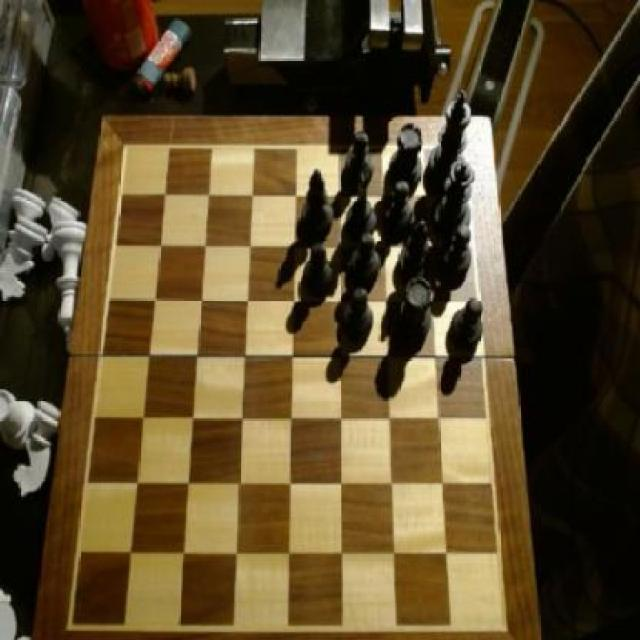bishop: (300, 166, 337, 241), (402, 217, 433, 281)
black-bishop: (428, 90, 472, 186)
black-king: (346, 169, 376, 239)
black-knight: (449, 295, 484, 351), (442, 225, 474, 279), (343, 286, 375, 339), (346, 132, 376, 188), (382, 178, 413, 232), (352, 233, 382, 284), (306, 244, 336, 294)
black-pawn: (434, 155, 475, 240)
black-queen: (396, 275, 434, 341), (389, 122, 423, 189)
